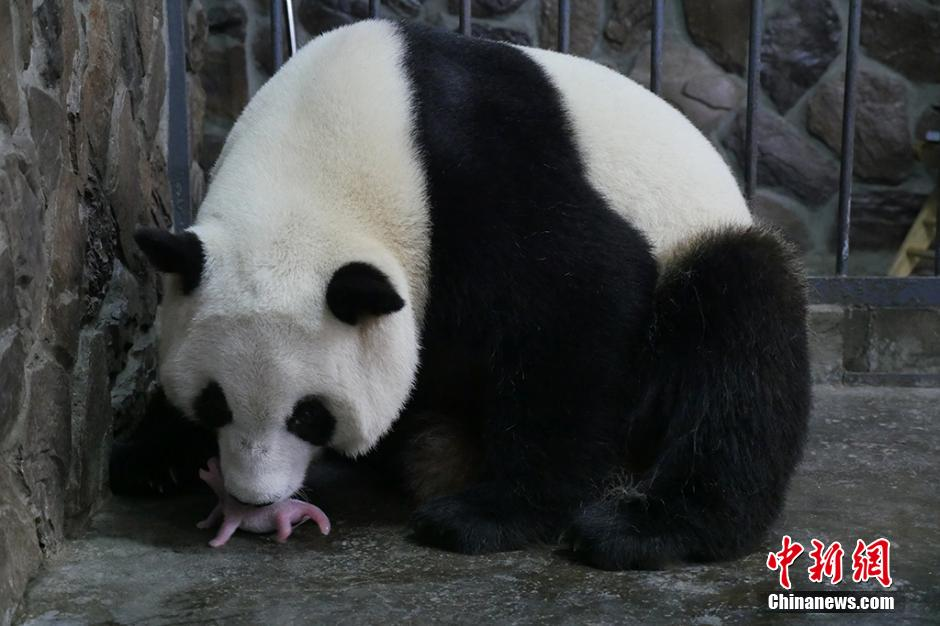panda: (151, 12, 812, 589)
